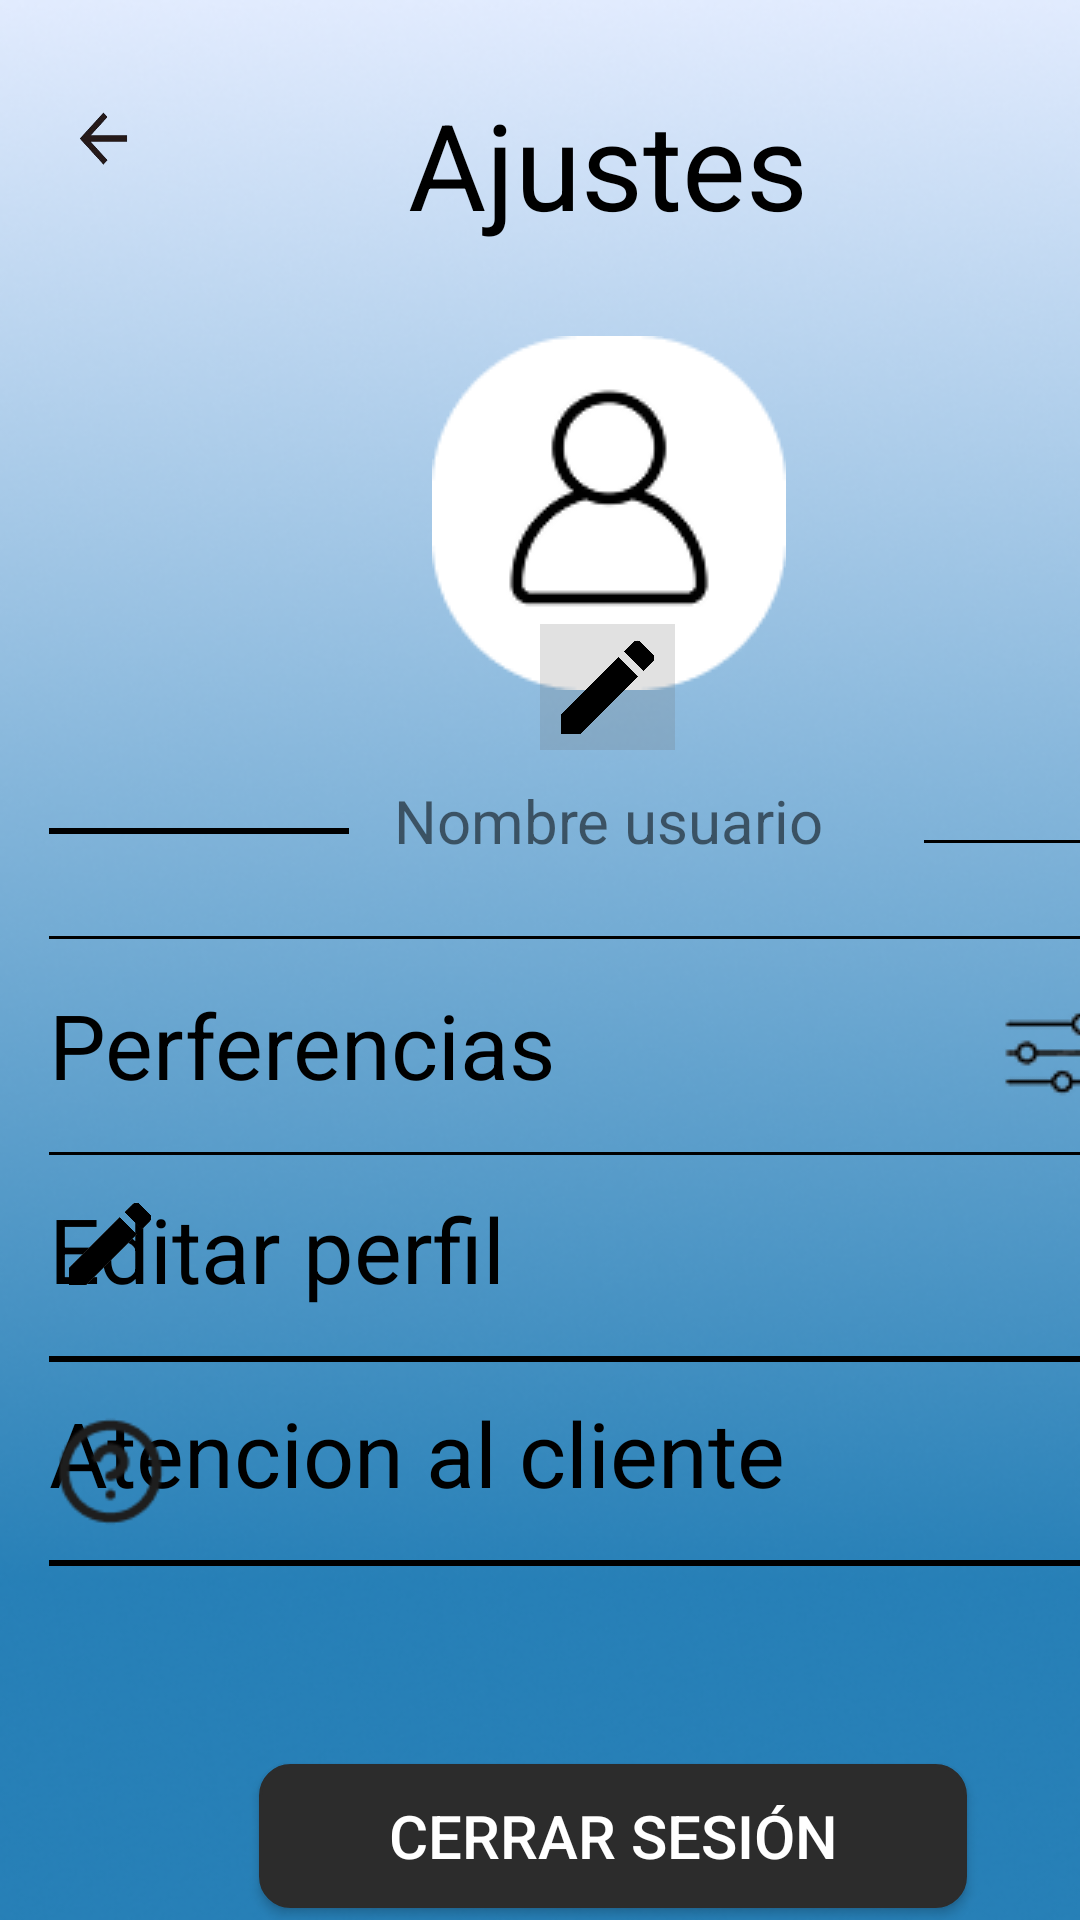

Where icons sit on this 1080×1920 app screen, as {"x1": x1, "y1": y1, "x2": x2, "y2": y2}:
flecha atras negra: {"x1": 80, "y1": 112, "x2": 127, "y2": 165}
